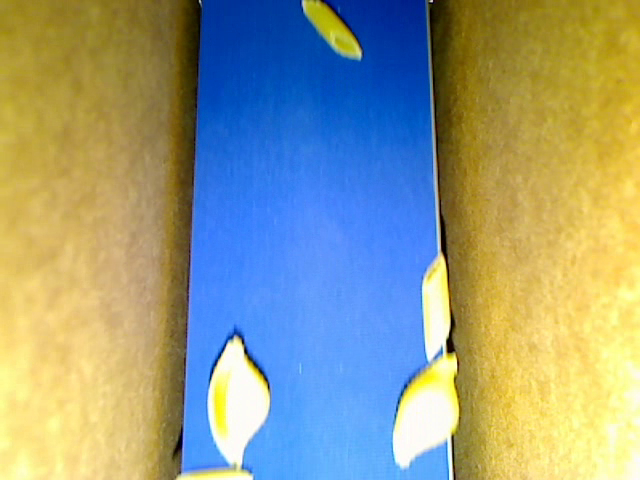penne: (302, 1, 362, 60), (420, 249, 449, 361)
shell: (205, 334, 271, 469), (391, 352, 459, 469)
